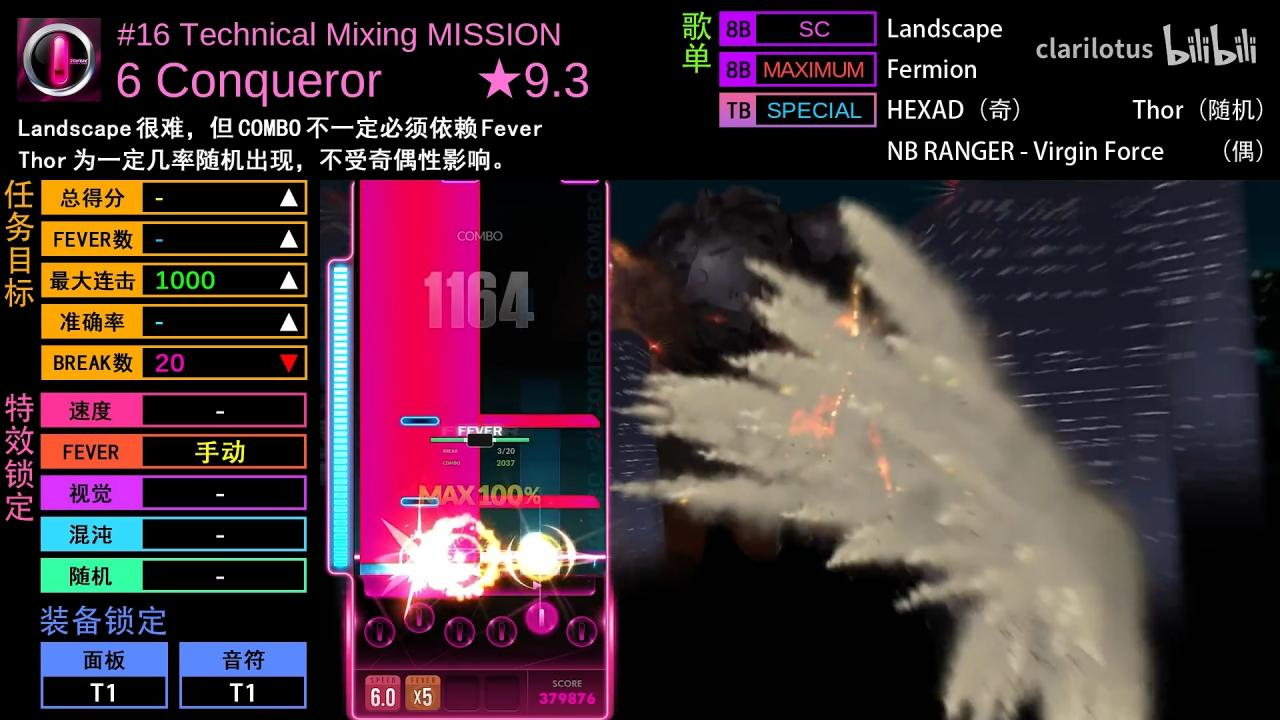note: (399, 496, 440, 509), (398, 415, 441, 427)
xnote: (479, 414, 600, 428), (480, 495, 600, 508)
